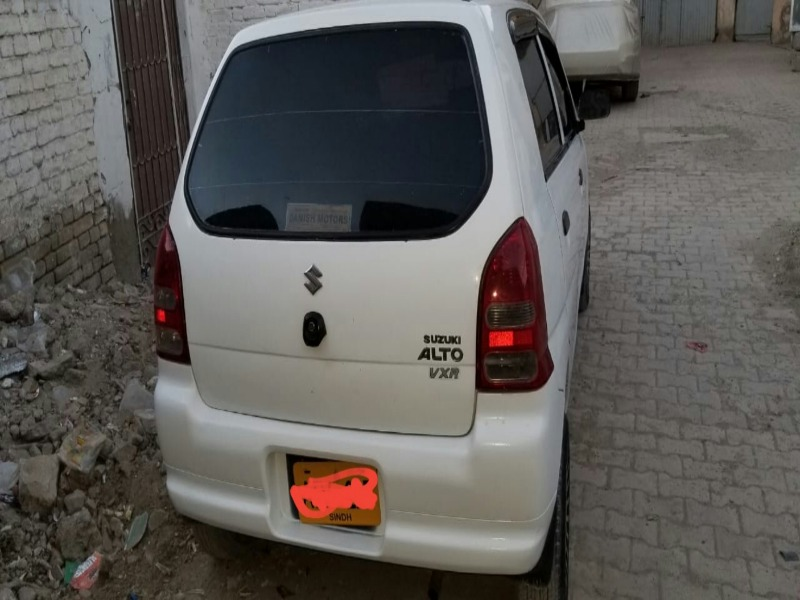License Plate: (287, 455, 388, 539)
